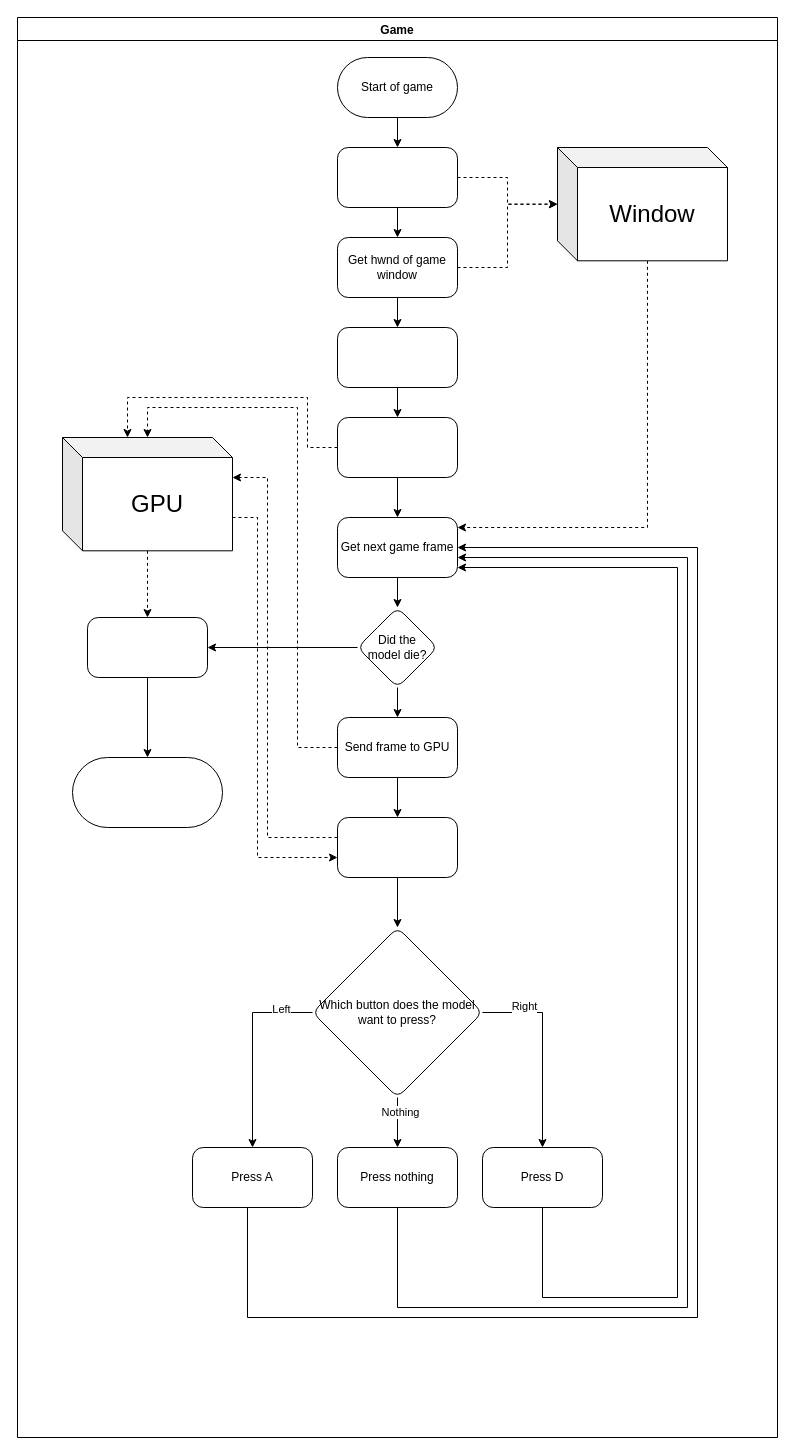
This 795x1455 diagram has some shape labels left out. The centre of each missing label's shape, as x and y in pixels:
"End game with time alive for this model" goes at pixel 147 792.
"Forward propagate frame and get result" goes at pixel 397 847.
"Send model to GPU" goes at pixel 397 447.
"Start browser with actual game" goes at pixel 397 177.
"Transfer model back from GPU" goes at pixel 147 647.
"Wait for game load" goes at pixel 397 357.
